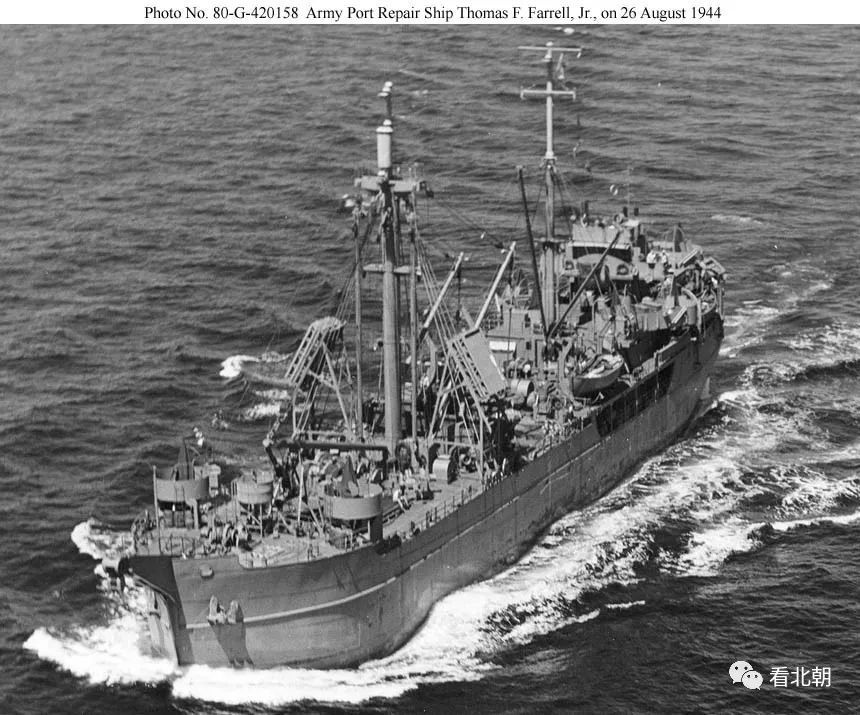warship: (90, 44, 725, 662)
